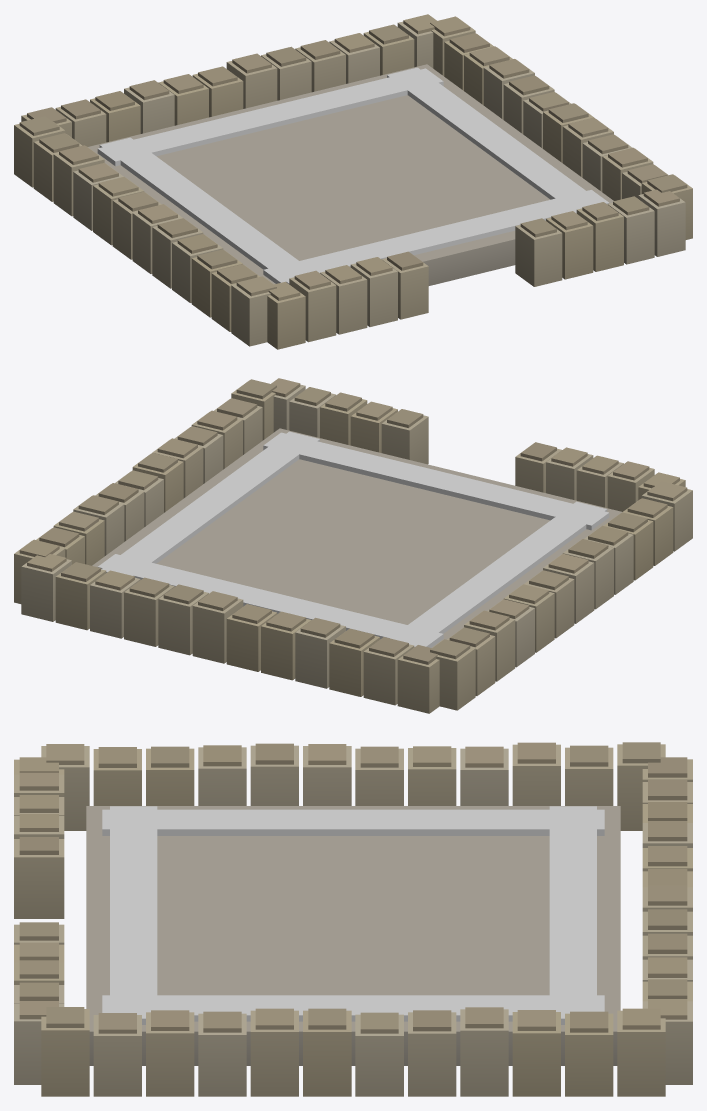
File: m_sam_426854d9.glb
3 views of the same model, one above another, from view 1: azimuth 30°, elevation 25°; view 2: azimuth 150°, elevation 25°; view 3: azimuth 270°, elevation 25° (orthographic). The views are drawn at different scales.
Visible parts, largest first — view 1: mesh; view 2: mesh; view 3: mesh.
Part boxes in pixels (x1,y1,x2,y2): mesh: (14,14,692,349); mesh: (14,378,692,713); mesh: (14,742,692,1096).
Size of the model in its own units: 43.11 by 4.97 by 43.11.
